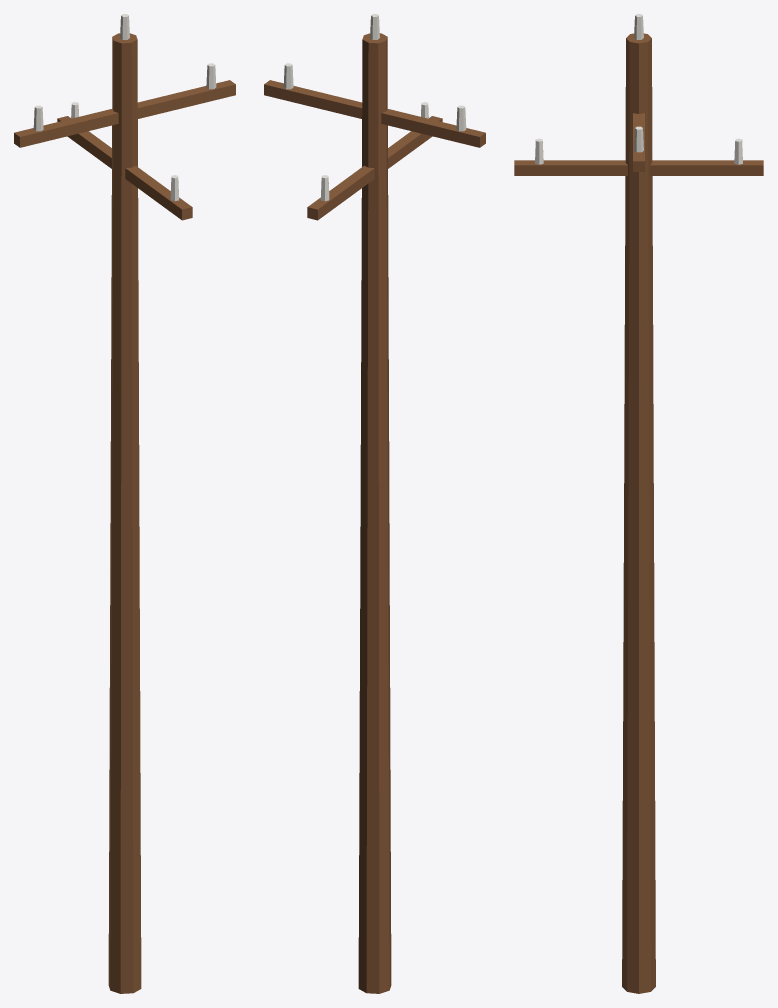
File: Pole_Utility_Wood_Corner.glb
3 renders of one model, left to right at view 1: azimuth 30°, elevation 25°; view 2: azimuth 150°, elevation 25°; view 3: azimuth 270°, elevation 25°, orthographic.
Parts seen in each view (by area): view 1: Pole_Utility_Wood_Corner_Wood, Pole_Utility_Wood_Corner_PaintWhite; view 2: Pole_Utility_Wood_Corner_Wood, Pole_Utility_Wood_Corner_PaintWhite; view 3: Pole_Utility_Wood_Corner_Wood, Pole_Utility_Wood_Corner_PaintWhite.
Boxes of the visible parts, left/top/right/bottom form: Pole_Utility_Wood_Corner_Wood: left=14, top=33, right=235, bottom=993; Pole_Utility_Wood_Corner_PaintWhite: left=33, top=14, right=216, bottom=201; Pole_Utility_Wood_Corner_Wood: left=264, top=33, right=485, bottom=993; Pole_Utility_Wood_Corner_PaintWhite: left=283, top=14, right=466, bottom=201; Pole_Utility_Wood_Corner_Wood: left=514, top=33, right=763, bottom=993; Pole_Utility_Wood_Corner_PaintWhite: left=535, top=14, right=742, bottom=164.
Size of the model in its own units: 2.5 by 10.75 by 2.5.
